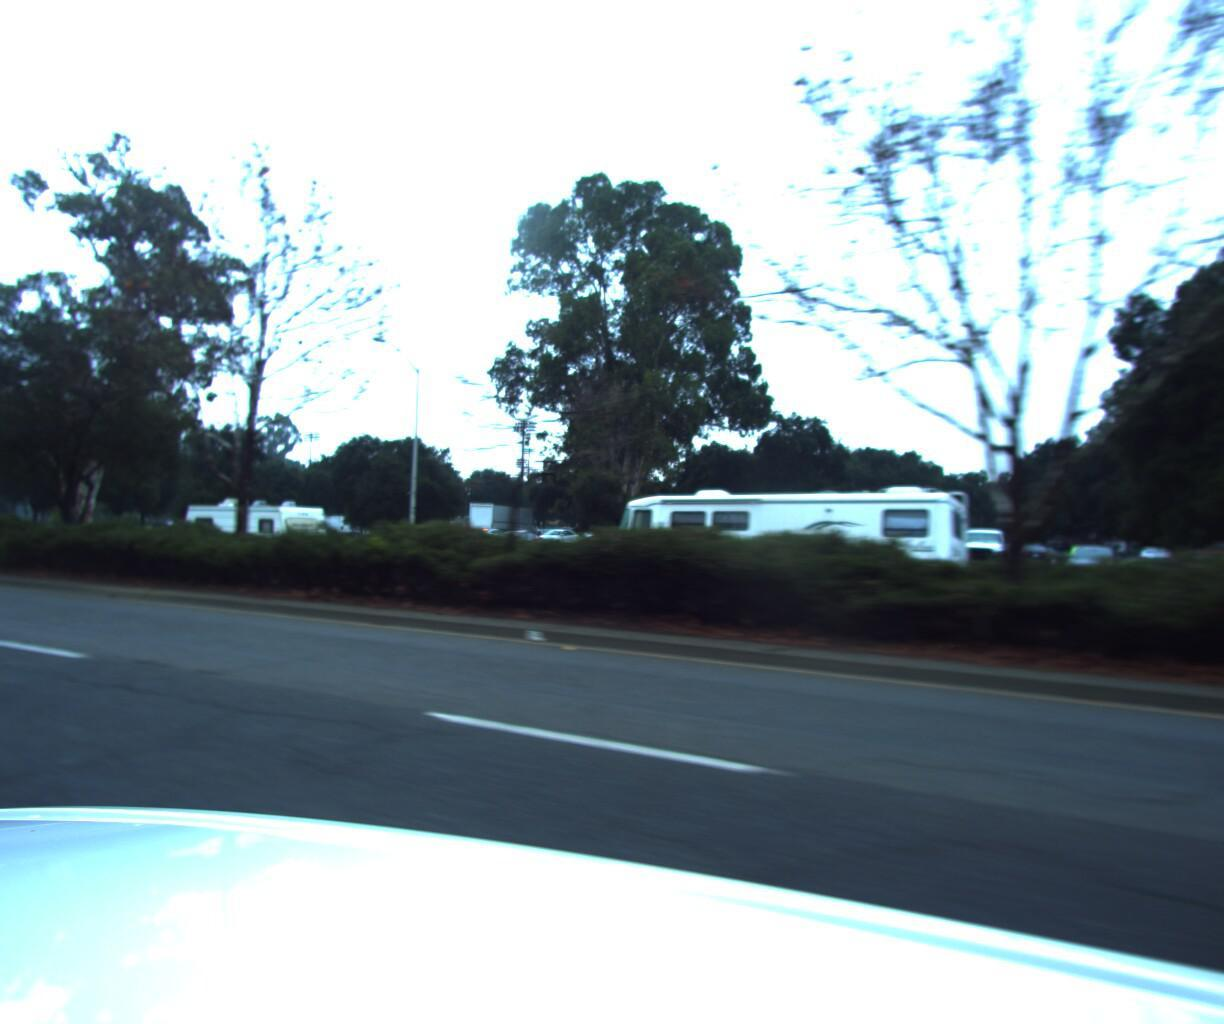car: (1049, 546, 1224, 633)
other_vehicle: (601, 475, 974, 616), (169, 491, 333, 565)
